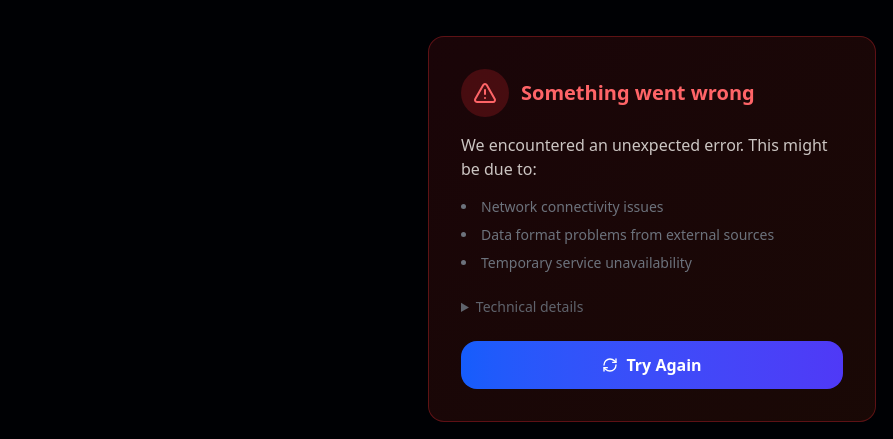
Test: ErrorBoundary › reset behavior › clears error state and re-renders children after Try Again click
Check: the heading "Something went wrong" is shown, box [521,79,755,107]
Click the button "Try Again" at (652, 365), box [461,341,843,389]
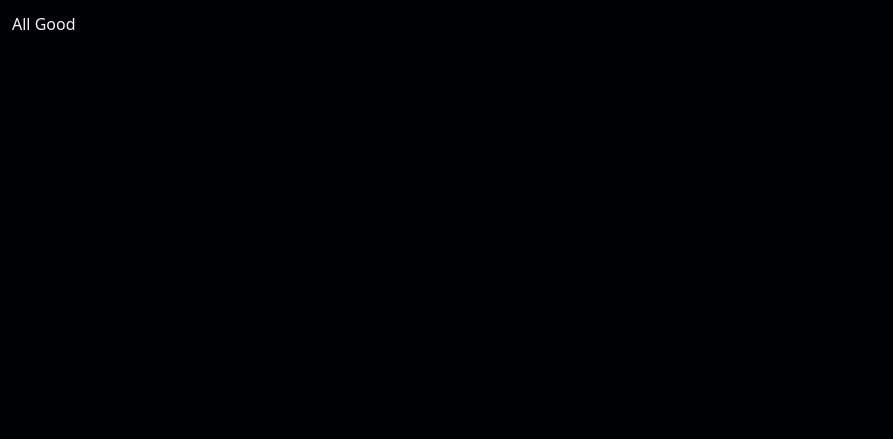
Check: the text "All Good" is shown, box [12,13,76,35]
